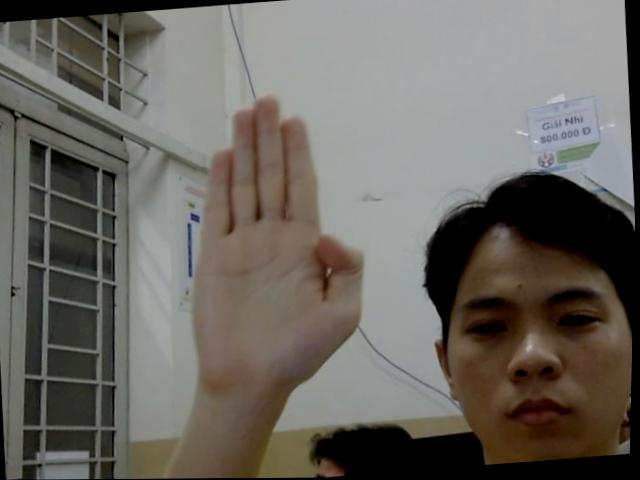B: (174, 90, 374, 396)
